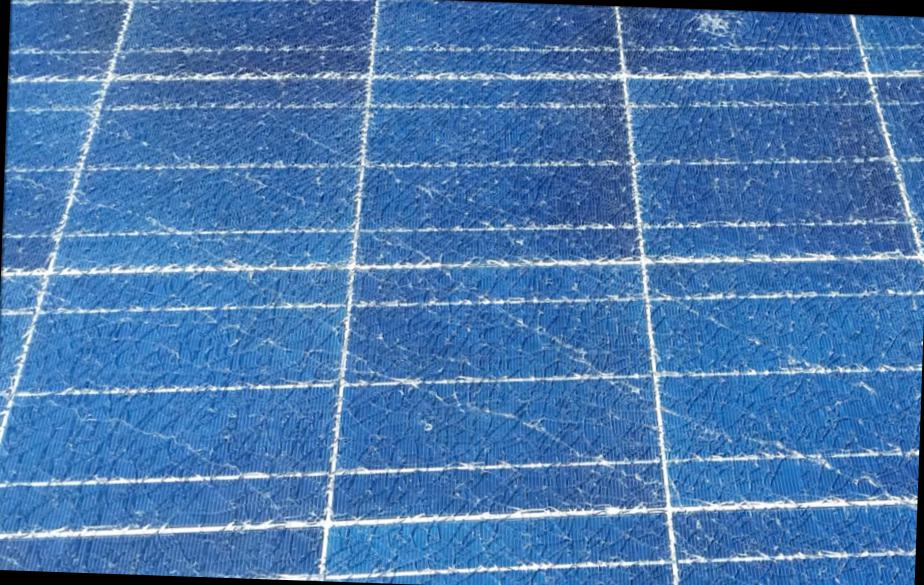Crack: (0, 0, 923, 584), (678, 7, 755, 48)
